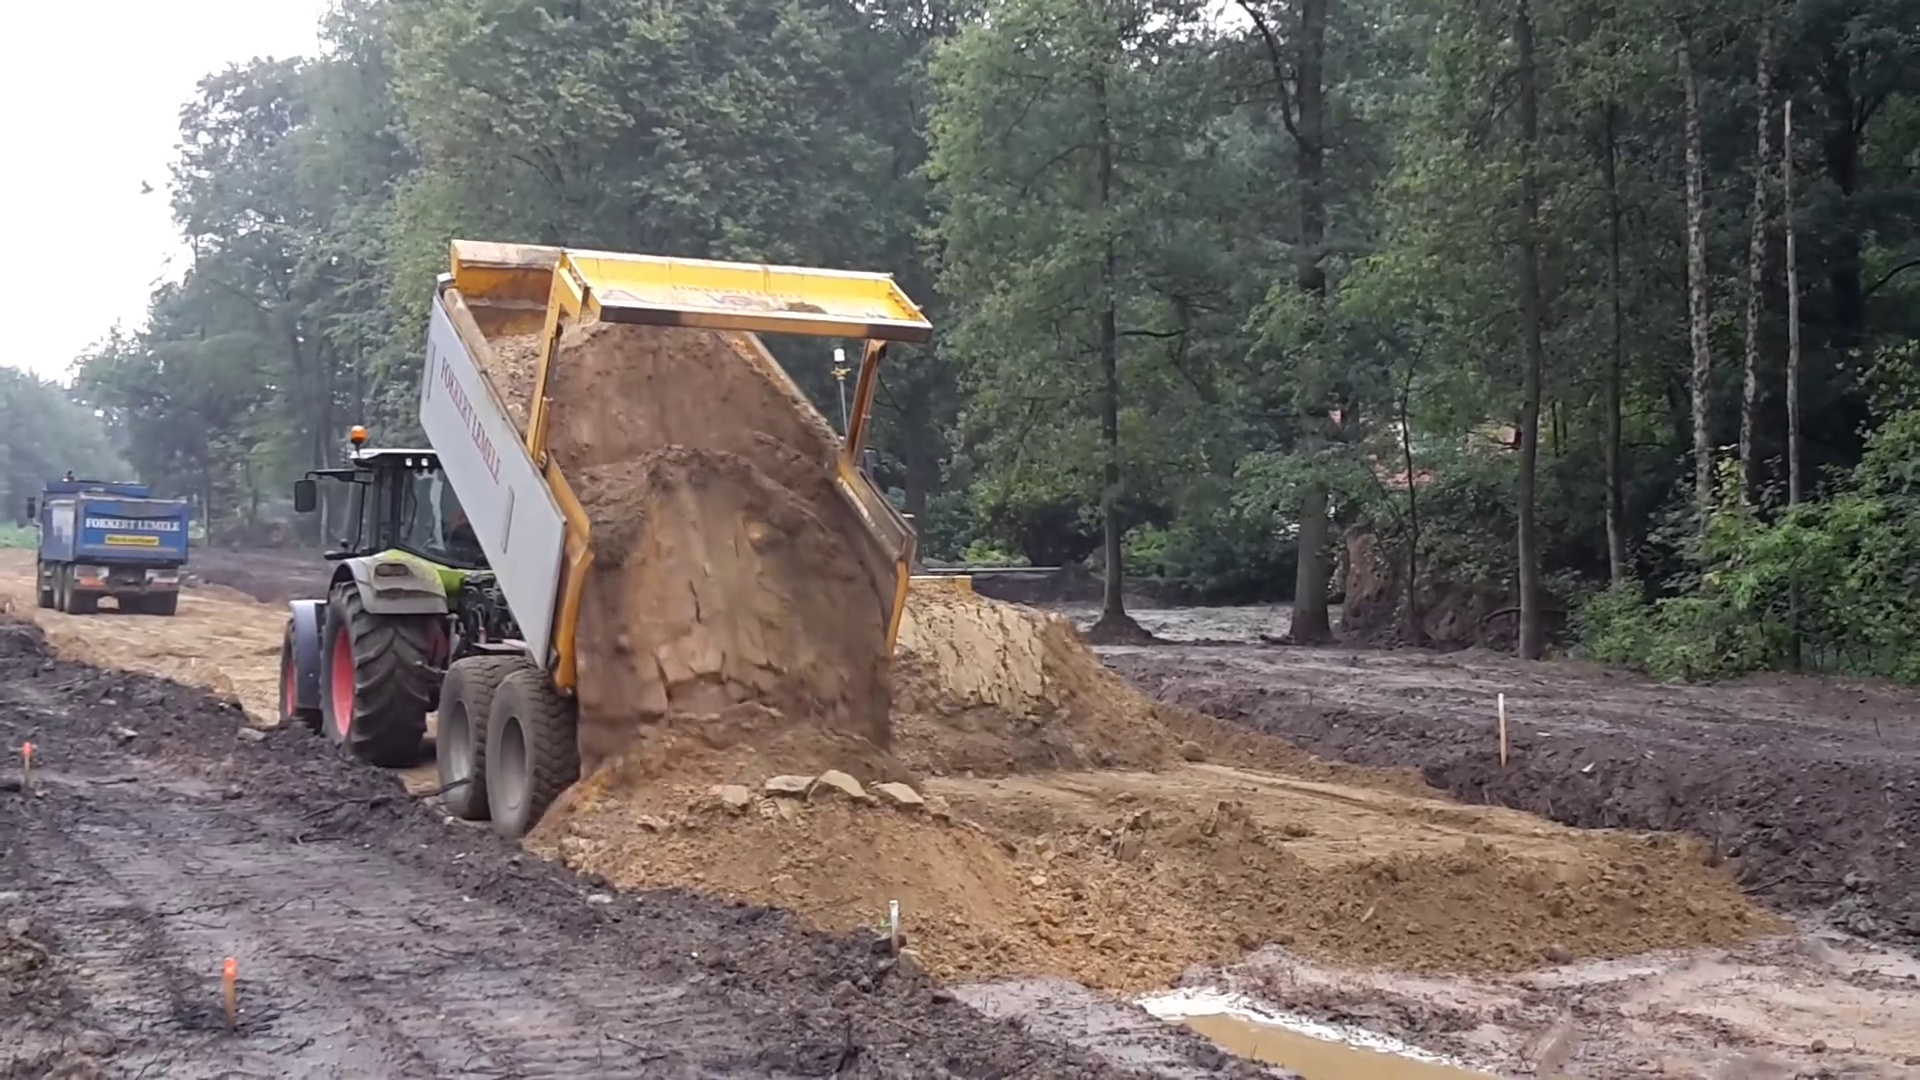truck: (282, 233, 932, 835), (21, 469, 194, 618)
